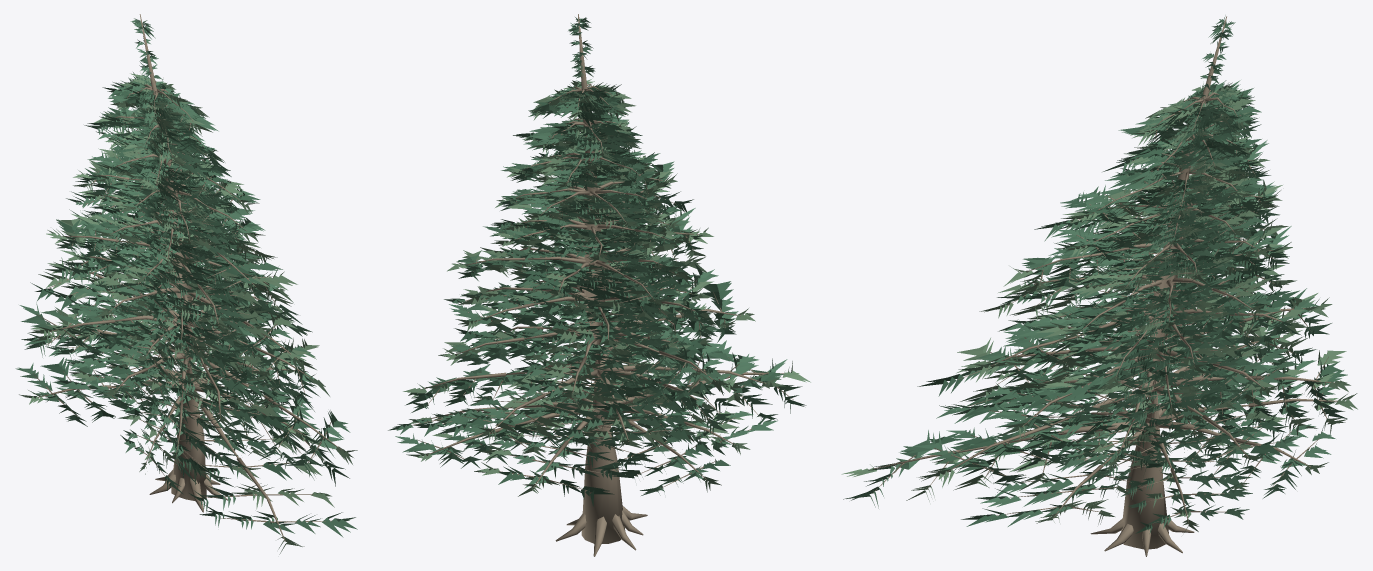
The model's file is cedar_4.glb.
3 renders of one model, left to right at view 1: azimuth 30°, elevation 25°; view 2: azimuth 150°, elevation 25°; view 3: azimuth 270°, elevation 25°, orthographic. The views are drawn at different scales.
Parts seen in each view (by area): view 1: tree_conifer_ConiferLeaf, tree_conifer_ConiferLeafLight, tree_conifer_ConiferLeafDark, tree_conifer_ConiferBark; view 2: tree_conifer_ConiferLeaf, tree_conifer_ConiferLeafLight, tree_conifer_ConiferLeafDark, tree_conifer_ConiferBark; view 3: tree_conifer_ConiferLeaf, tree_conifer_ConiferLeafLight, tree_conifer_ConiferLeafDark, tree_conifer_ConiferBark.
Part boxes in pixels (x1,y1,x2,y2): tree_conifer_ConiferLeaf: [15, 18, 357, 537]; tree_conifer_ConiferLeafLight: [19, 73, 357, 554]; tree_conifer_ConiferLeafDark: [21, 78, 350, 527]; tree_conifer_ConiferBark: [33, 14, 341, 541]; tree_conifer_ConiferLeaf: [388, 17, 802, 495]; tree_conifer_ConiferLeafLight: [403, 79, 810, 496]; tree_conifer_ConiferLeafDark: [405, 84, 806, 506]; tree_conifer_ConiferBark: [412, 14, 793, 556]; tree_conifer_ConiferLeaf: [843, 15, 1337, 528]; tree_conifer_ConiferLeafLight: [841, 83, 1357, 532]; tree_conifer_ConiferLeafDark: [917, 80, 1347, 533]; tree_conifer_ConiferBark: [873, 16, 1337, 556].
Size of the model in its own units: 7.54 by 12.3 by 11.17.
